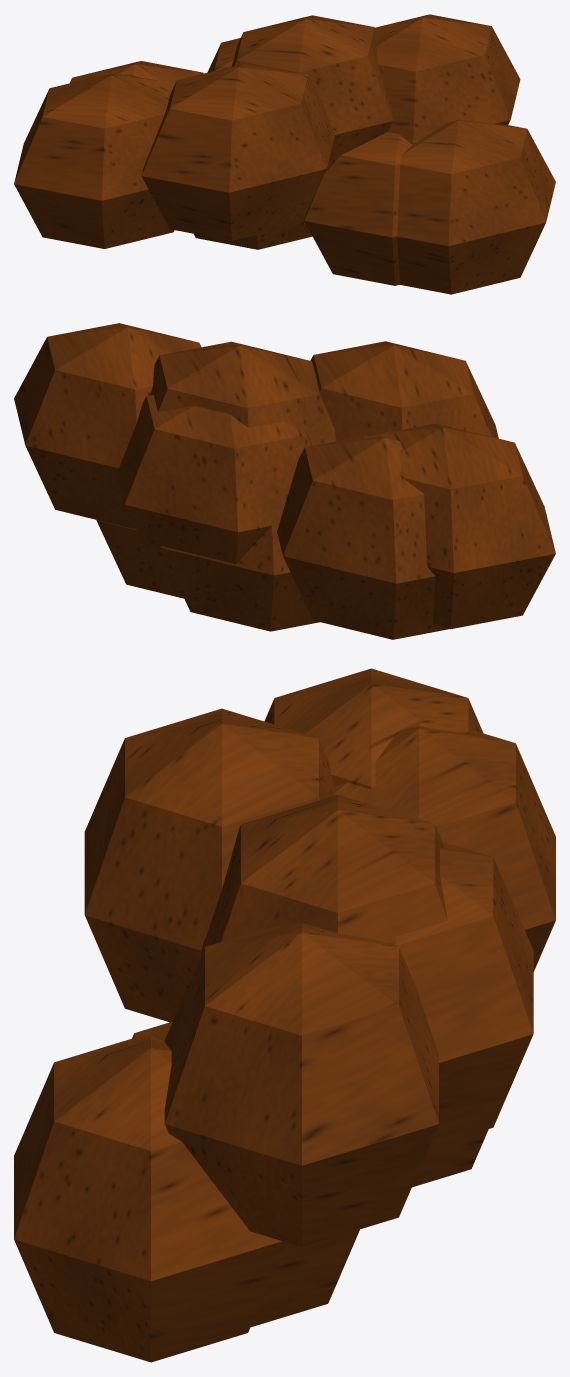
Rendered from PROP-ADD27719D27D_lod2.glb.
3 views of the same model, one above another, from view 1: azimuth 30°, elevation 25°; view 2: azimuth 150°, elevation 25°; view 3: azimuth 270°, elevation 25° (orthographic). The views are drawn at different scales.
Visible parts, largest first — view 1: foliage.008; view 2: foliage.008; view 3: foliage.008.
Part boxes in pixels (left/top/right/bottom): foliage.008: left=14, top=14, right=555, bottom=294; foliage.008: left=14, top=323, right=555, bottom=639; foliage.008: left=14, top=668, right=555, bottom=1362.
Size of the model in its own units: 1.5 by 0.7568 by 0.8215.
1 material, 1 textured.
